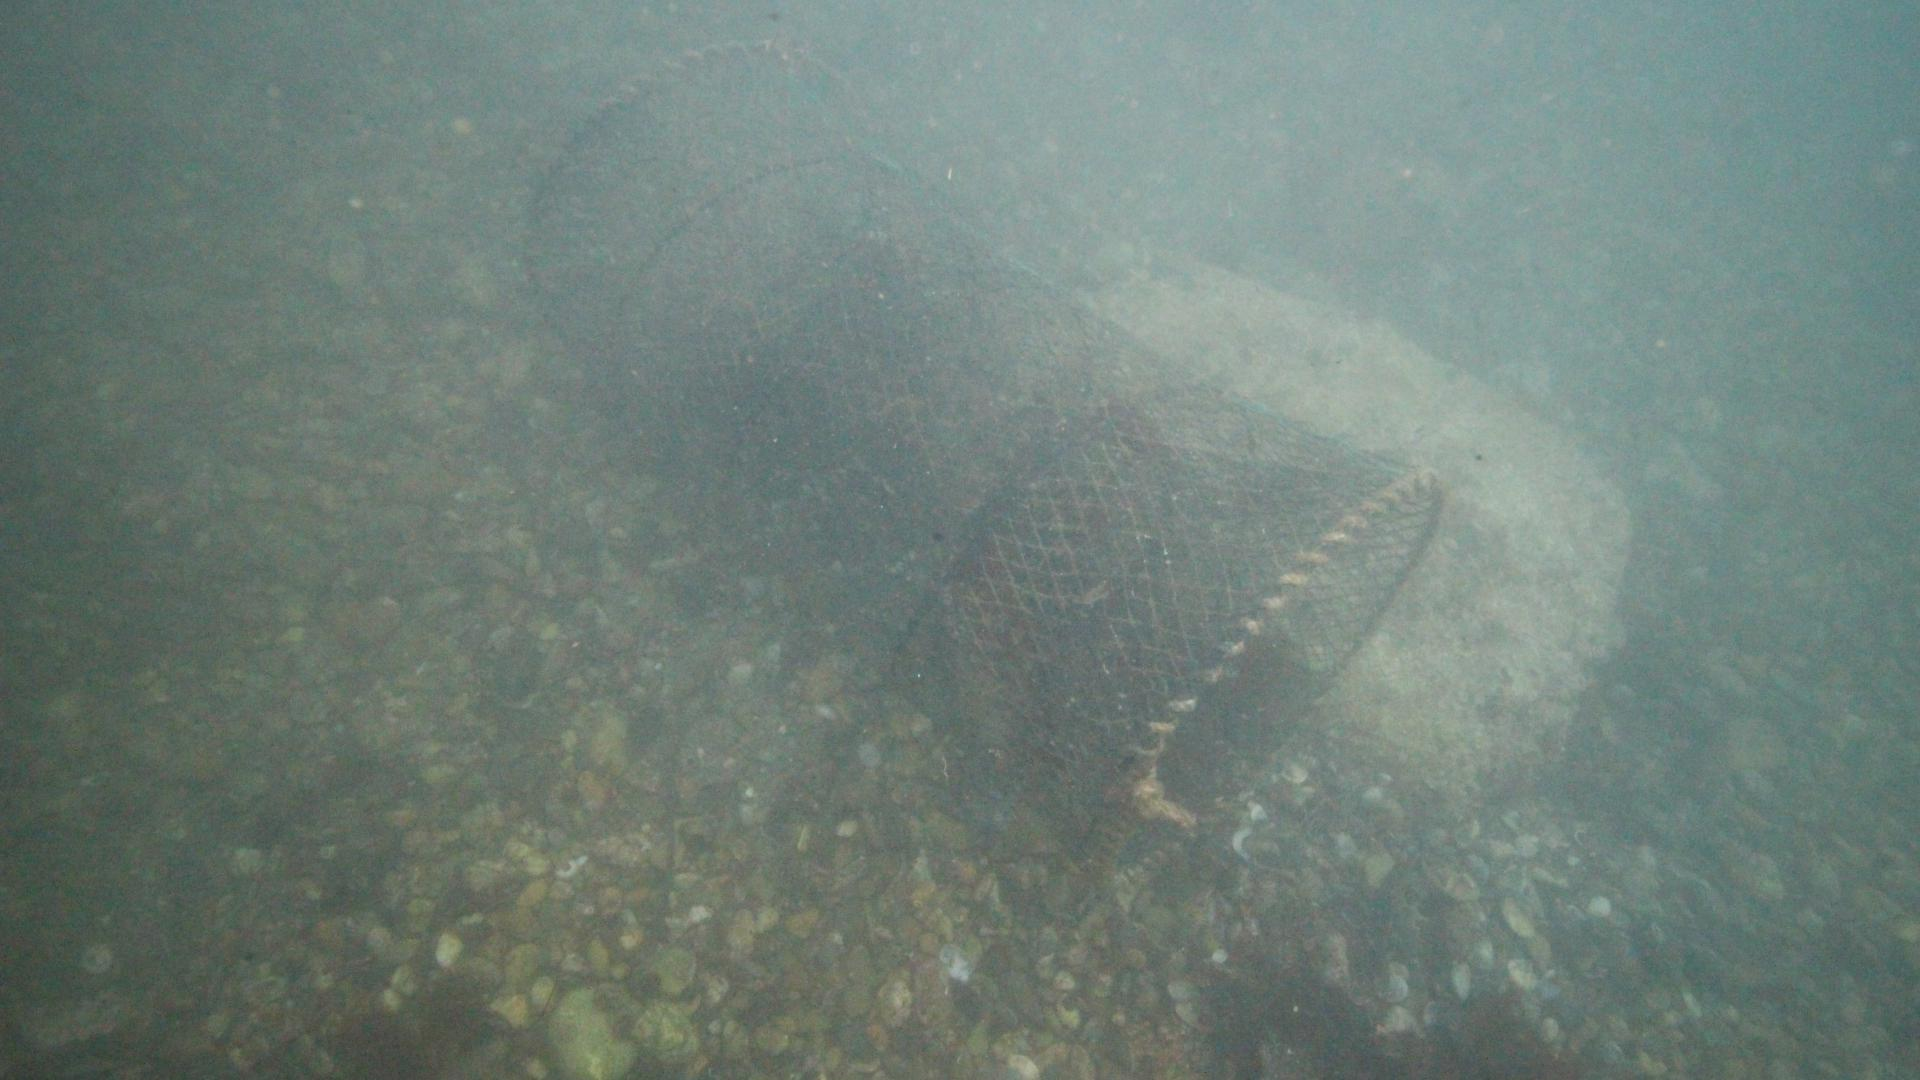spring fish trap: (514, 36, 1448, 891)
